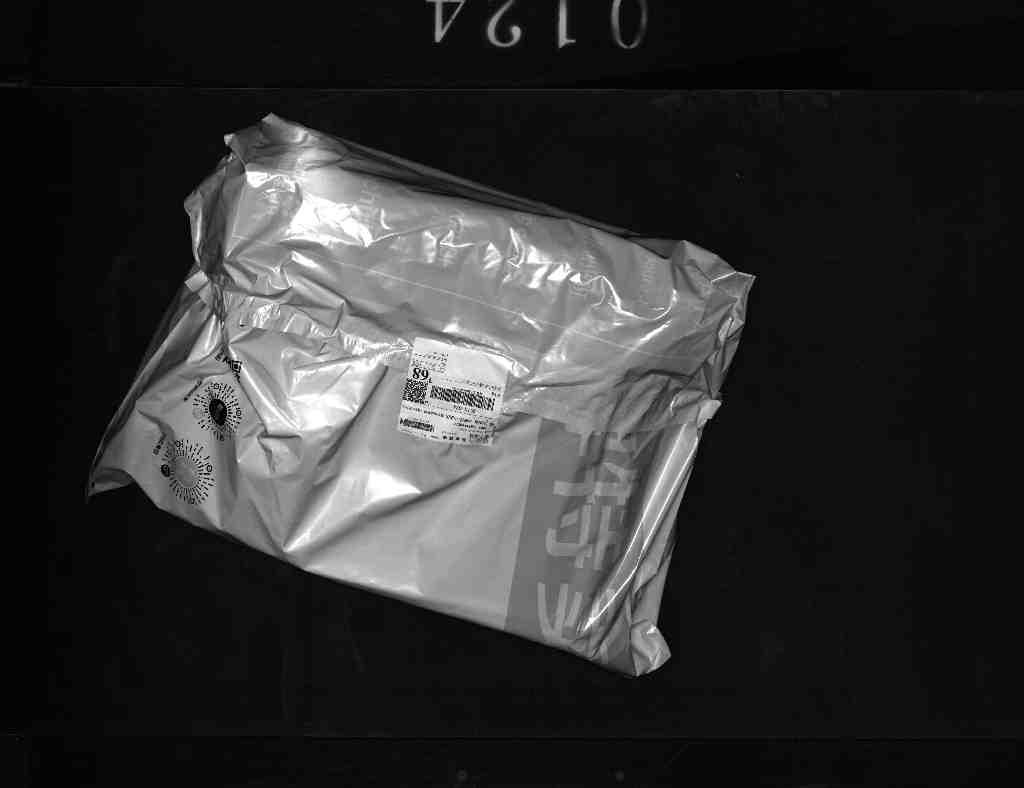box: (104, 127, 745, 686)
